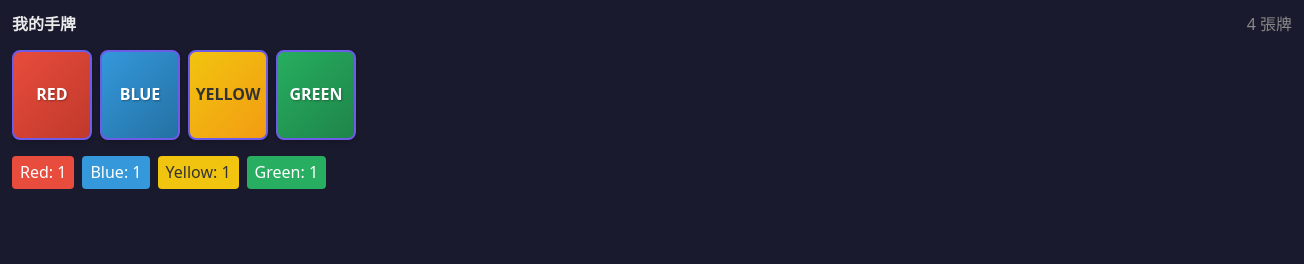
Test: PlayerHand - 工作單 0018 › 卡牌選擇 › 選擇時應顯示已選擇卡牌數量
The width and height of the screenshot is (1304, 264).
Click the button "red" at (52, 95), box x1=12 y1=50 x2=92 y2=140
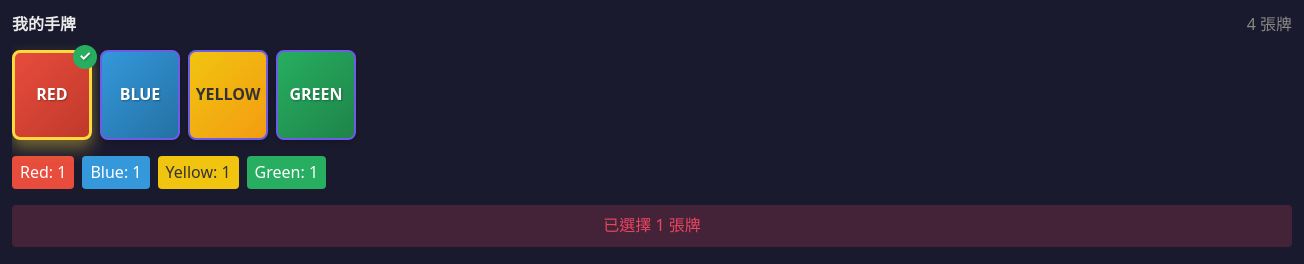
Expected: the text "已選擇 1 張牌" is shown, x1=12 y1=205 x2=1292 y2=247
